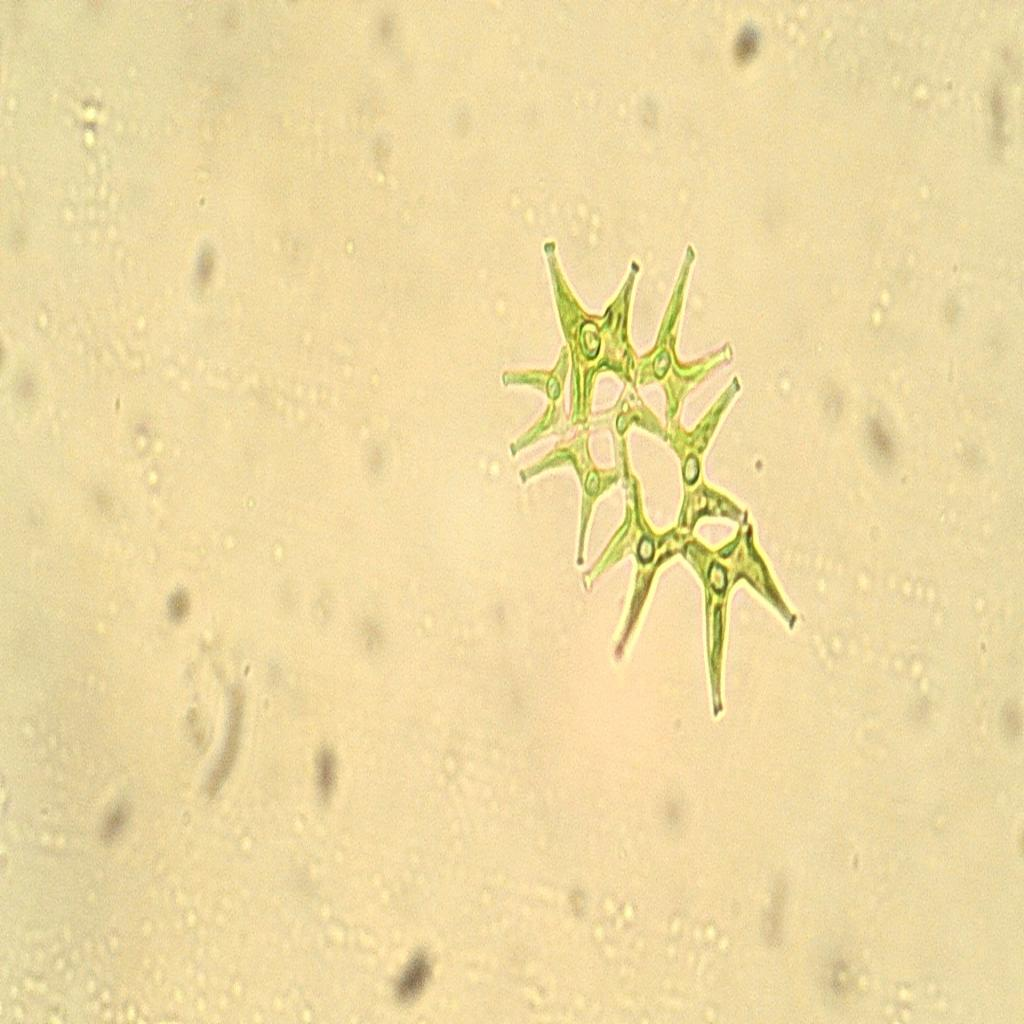Pediastrum_CFI: (492, 203, 808, 750)
